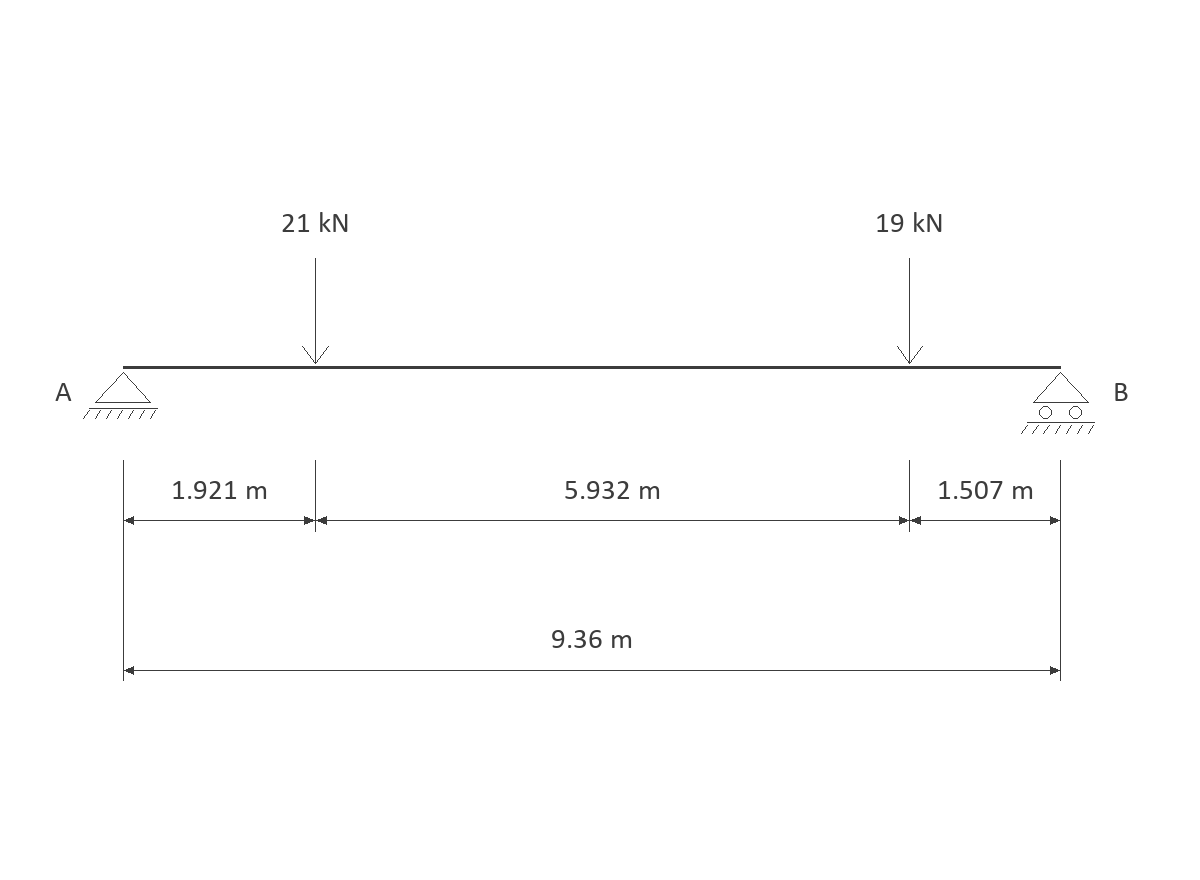pin_support: (83, 372, 158, 419)
point_load: (302, 258, 329, 364), (897, 258, 923, 364)
roller_support: (1021, 372, 1095, 434)
